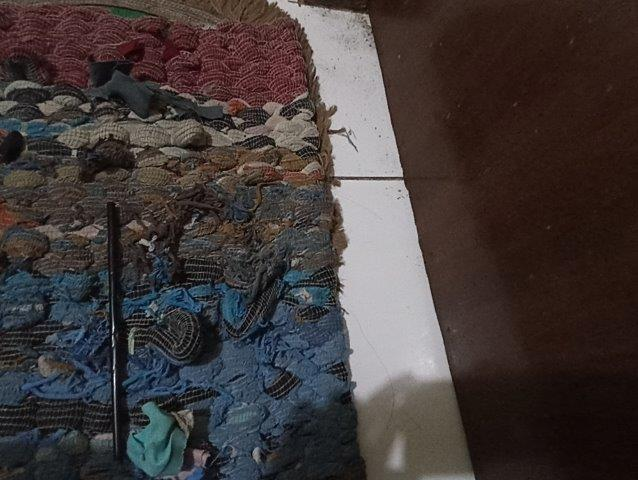sedotan: (106, 202, 124, 462)
